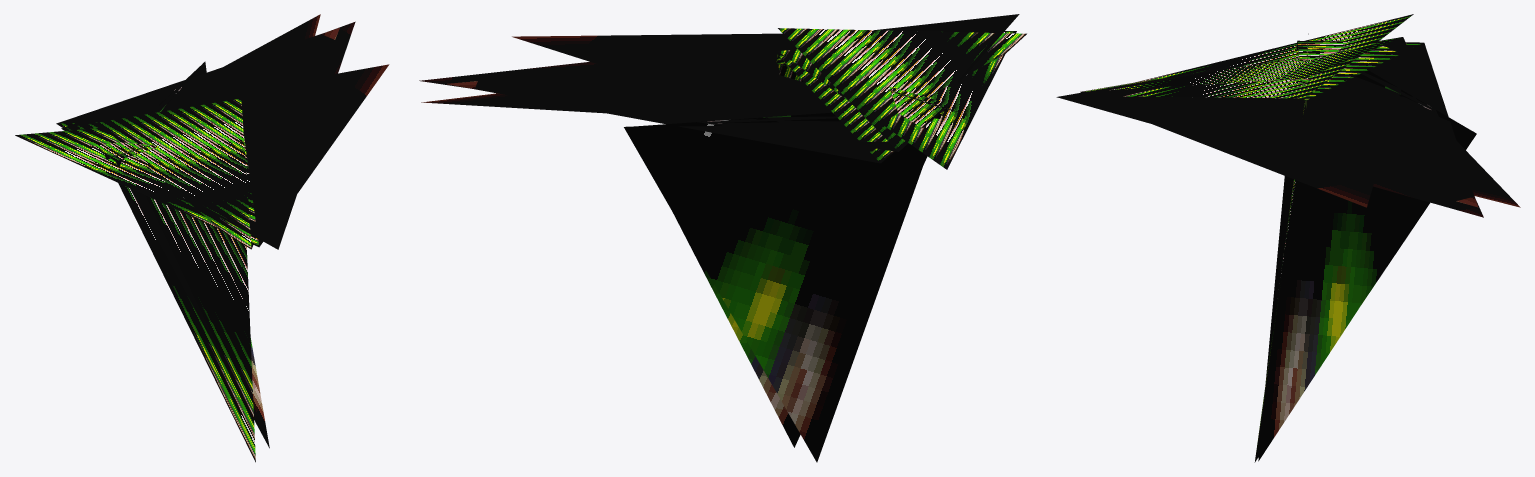
File: assets0A_model_027.obj
The picture shows the model from 3 angles, left to right: view 1: azimuth 30°, elevation 25°; view 2: azimuth 150°, elevation 25°; view 3: azimuth 270°, elevation 25°; orthographic projection. The views are drawn at different scales.
Visible parts, largest first — view 1: assets0A_model_027; view 2: assets0A_model_027; view 3: assets0A_model_027.
Boxes of the visible parts, left/top/right/bottom form: assets0A_model_027: left=15, top=14, right=389, bottom=462; assets0A_model_027: left=419, top=14, right=1026, bottom=462; assets0A_model_027: left=1056, top=14, right=1520, bottom=462.
Size of the model in its own units: 17.11 by 15.21 by 16.5.
1 material, 1 textured.
